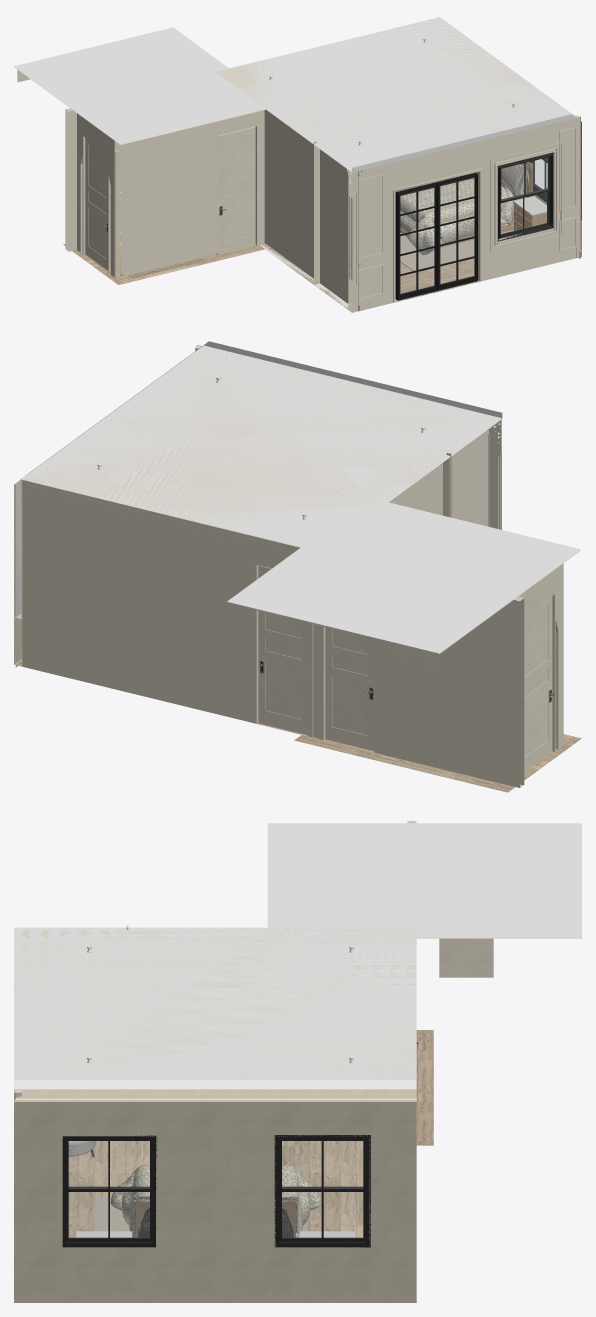
The model's file is primary-bedroom-776b3e483a35.glb.
3 views of the same model, one above another, from view 1: azimuth 30°, elevation 25°; view 2: azimuth 150°, elevation 25°; view 3: azimuth 270°, elevation 25° (orthographic). The views are drawn at different scales.
Parts seen in each view (by area): view 1: primary-bedroom-9d91b47435c6fb33, primary-bedroom-b0ade14315e4f1c3, primary-bedroom-look-9d91b47435c6fb33, primary-bedroom-look-9ecc0d558be1c706, primary-bedroom-e8793759323e04f0, primary-bedroom-fc6585fecfaf7ec3, primary-bedroom-look-18f70a4a9eda5dac, primary-bedroom-42fce09358828e49, primary-bedroom-d70d42a253f78e60, primary-bedroom-e1735639a83d20d7, primary-bedroom-c791a0f218fead78, primary-bedroom-look-6c54e09c161b5848 (+19 smaller); view 2: primary-bedroom-9d91b47435c6fb33, primary-bedroom-21ac2ed1b4475155, primary-bedroom-e8793759323e04f0, primary-bedroom-look-9d91b47435c6fb33, primary-bedroom-look-21ac2ed1b4475155, primary-bedroom-b7a870a0f6b43c8c, primary-bedroom-look-6d601da8073fdc0e, primary-bedroom-look-6c54e09c161b5848, primary-bedroom-c791a0f218fead78, primary-bedroom-look-e48b5483df8cacdb, primary-bedroom-look-2575515a05775d9e, primary-bedroom-fc6585fecfaf7ec3 (+6 smaller); view 3: primary-bedroom-9d91b47435c6fb33, primary-bedroom-adb6f49a6d2cbec3, primary-bedroom-look-9d91b47435c6fb33, primary-bedroom-e8793759323e04f0, primary-bedroom-16d9002bc6318568, primary-bedroom-91f952a1d198b4a4, primary-bedroom-2575515a05775d9e, primary-bedroom-f5a37a5545b9d676, primary-bedroom-791abe15be22adf2, primary-bedroom-look-95b94d4b81cfb474, primary-bedroom-look-2575515a05775d9e, primary-bedroom-b29583548b72a1ea (+4 smaller).
Part boxes in pixels (box(x1,y1,x2,y2)): primary-bedroom-9d91b47435c6fb33: box(234, 17, 575, 172); primary-bedroom-b0ade14315e4f1c3: box(348, 116, 580, 312); primary-bedroom-look-9d91b47435c6fb33: box(14, 27, 265, 144); primary-bedroom-look-9ecc0d558be1c706: box(121, 111, 259, 276); primary-bedroom-e8793759323e04f0: box(215, 15, 575, 171); primary-bedroom-fc6585fecfaf7ec3: box(260, 109, 319, 284); primary-bedroom-look-18f70a4a9eda5dac: box(218, 126, 255, 253); primary-bedroom-42fce09358828e49: box(438, 174, 477, 290); primary-bedroom-d70d42a253f78e60: box(398, 184, 437, 300); primary-bedroom-e1735639a83d20d7: box(498, 152, 553, 241); primary-bedroom-c791a0f218fead78: box(314, 148, 358, 312); primary-bedroom-look-6c54e09c161b5848: box(82, 135, 110, 272); primary-bedroom-9d91b47435c6fb33: box(21, 345, 502, 551); primary-bedroom-21ac2ed1b4475155: box(22, 480, 320, 739); primary-bedroom-e8793759323e04f0: box(22, 341, 502, 536); primary-bedroom-look-9d91b47435c6fb33: box(227, 502, 580, 654); primary-bedroom-look-21ac2ed1b4475155: box(320, 596, 524, 787); primary-bedroom-b7a870a0f6b43c8c: box(258, 565, 307, 734); primary-bedroom-look-6d601da8073fdc0e: box(325, 627, 374, 750); primary-bedroom-look-6c54e09c161b5848: box(524, 592, 555, 771); primary-bedroom-c791a0f218fead78: box(443, 426, 491, 526); primary-bedroom-look-e48b5483df8cacdb: box(518, 563, 563, 749); primary-bedroom-look-2575515a05775d9e: box(294, 734, 581, 792); primary-bedroom-fc6585fecfaf7ec3: box(388, 457, 449, 515); primary-bedroom-9d91b47435c6fb33: box(14, 927, 416, 1089); primary-bedroom-adb6f49a6d2cbec3: box(14, 1100, 416, 1247); primary-bedroom-look-9d91b47435c6fb33: box(267, 823, 581, 938); primary-bedroom-e8793759323e04f0: box(14, 927, 416, 1088); primary-bedroom-16d9002bc6318568: box(15, 1248, 416, 1300); primary-bedroom-91f952a1d198b4a4: box(274, 1135, 370, 1247); primary-bedroom-2575515a05775d9e: box(14, 1141, 416, 1302); primary-bedroom-f5a37a5545b9d676: box(62, 1135, 157, 1247); primary-bedroom-791abe15be22adf2: box(14, 1089, 416, 1098); primary-bedroom-look-95b94d4b81cfb474: box(439, 938, 493, 977); primary-bedroom-look-2575515a05775d9e: box(416, 1030, 433, 1145); primary-bedroom-b29583548b72a1ea: box(125, 1165, 304, 1237).
Bounding box in the file's own units: 8.2 × 3.04 × 7.21.
Materials: 44 (12 with a texture image).
